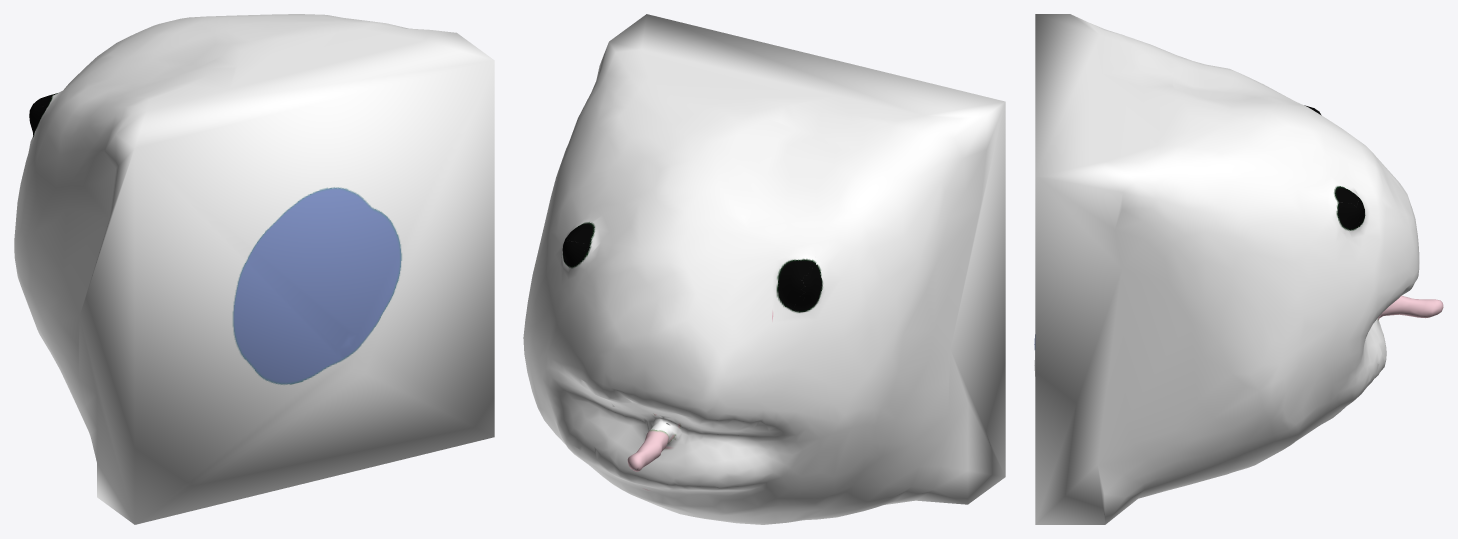
Rendered from snake_white.glb.
The picture shows the model from 3 angles, left to right: view 1: azimuth 30°, elevation 25°; view 2: azimuth 150°, elevation 25°; view 3: azimuth 270°, elevation 25°; orthographic projection. The views are drawn at different scales.
Visible parts, largest first — view 1: Cube.001; view 2: Cube.001; view 3: Cube.001.
Boxes of the visible parts, x1,y1,x2,y2 form: Cube.001: (14,14,494,524); Cube.001: (523,14,1005,524); Cube.001: (1034,14,1443,524).
Bounding box in the file's own units: 2 × 2 × 2.13.
Materials: 1 (1 with a texture image).
